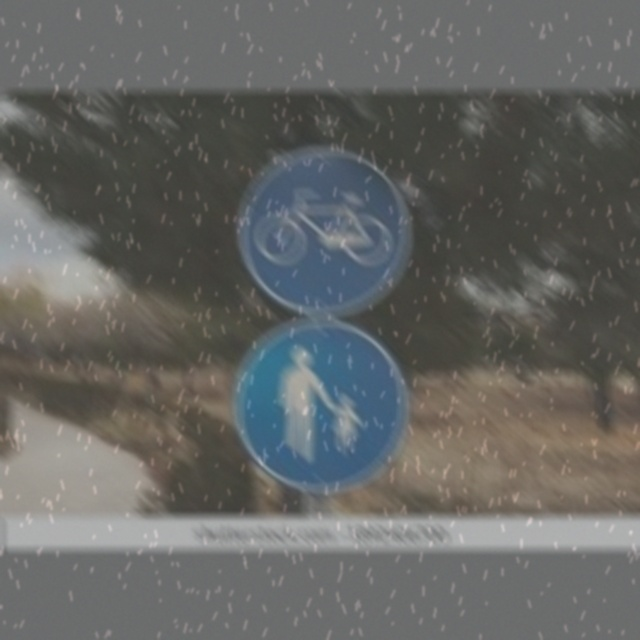Compulsory_Cycle_Track: (239, 149, 410, 311)
